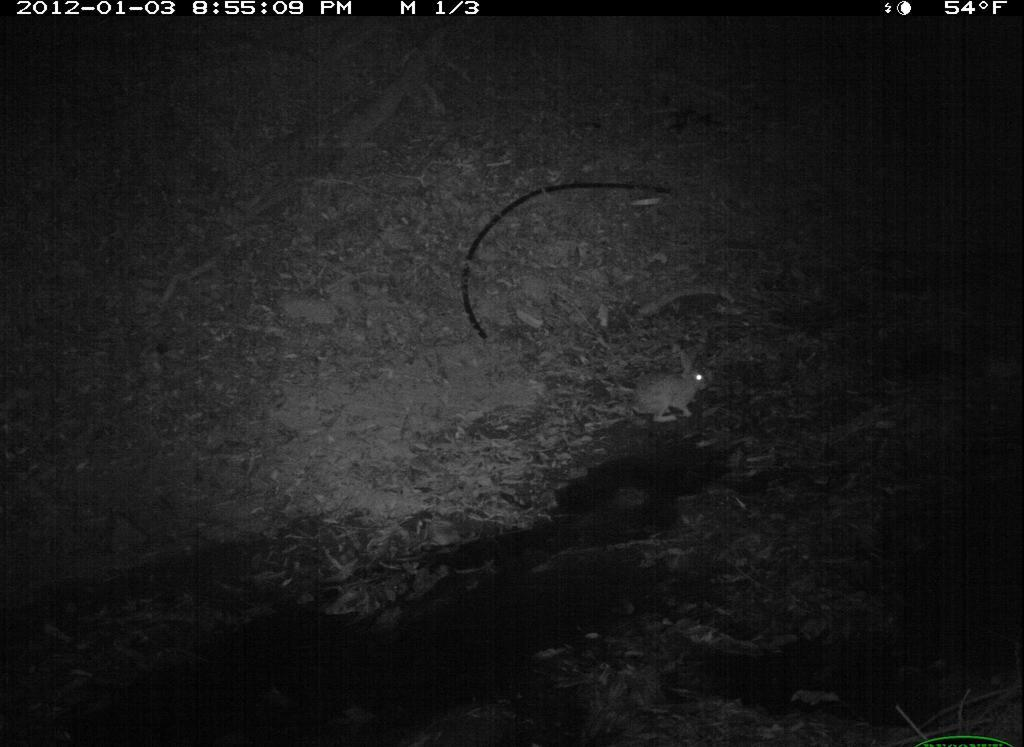rabbit: (609, 341, 742, 437)
